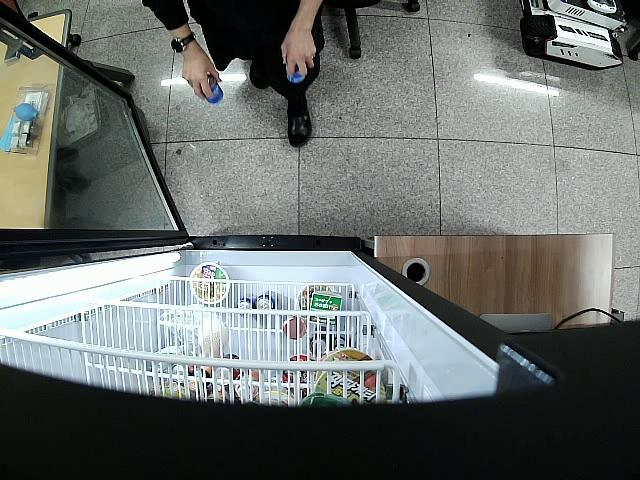00_hand: (183, 50, 223, 101), (281, 25, 317, 79)
15_letsbe: (199, 76, 225, 103), (283, 59, 305, 85)
